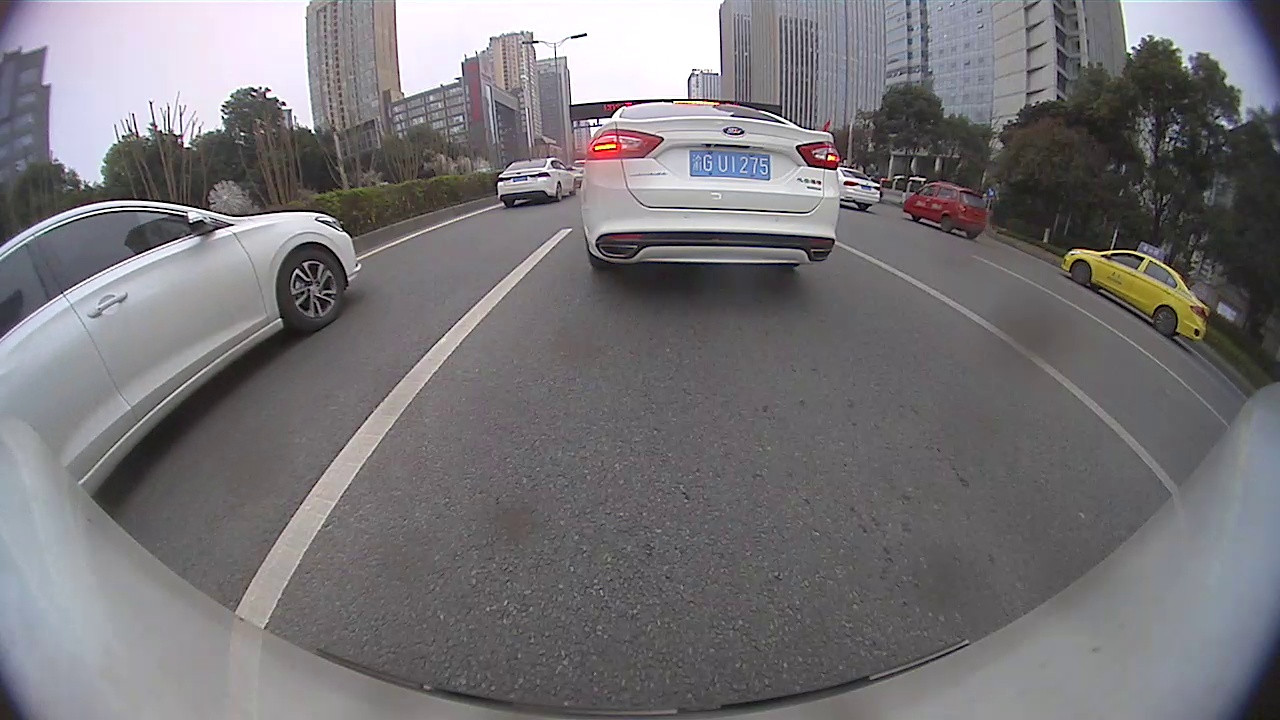car: (1, 199, 363, 498), (577, 98, 842, 270), (1061, 239, 1210, 344), (903, 181, 988, 239), (497, 157, 578, 208), (836, 166, 881, 212)
front: (278, 251, 349, 330), (1067, 258, 1094, 287)
rear: (1153, 304, 1179, 333), (939, 208, 955, 231)
